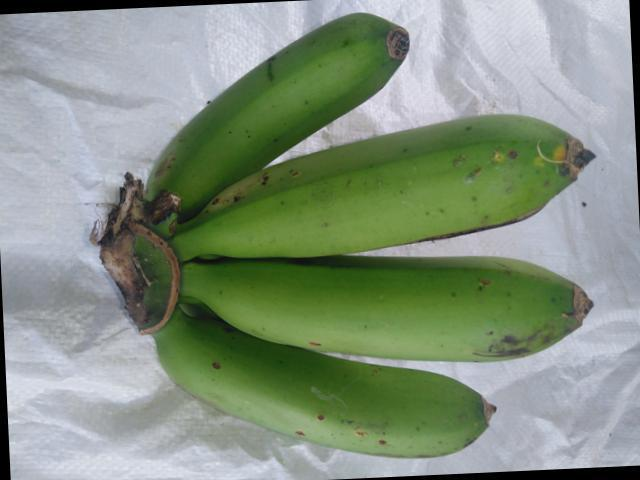rotten: (468, 311, 537, 390)
unripe: (185, 113, 605, 251), (135, 314, 485, 466), (186, 251, 604, 370), (138, 18, 401, 204)
